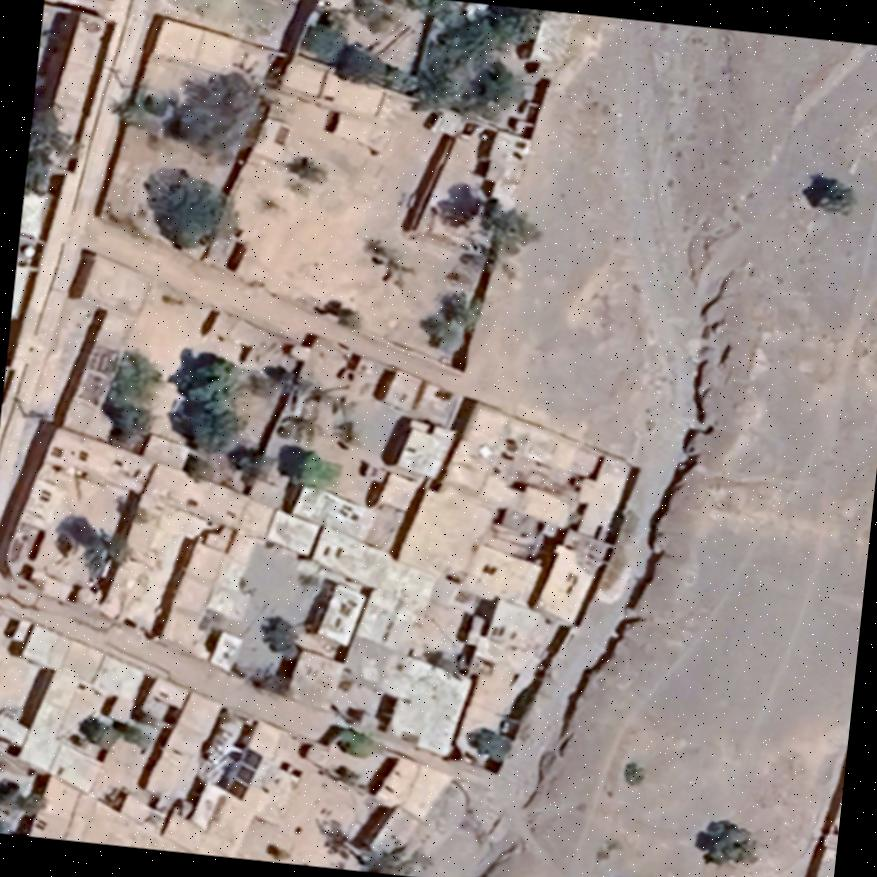Solarpanel: (226, 747, 261, 803)
